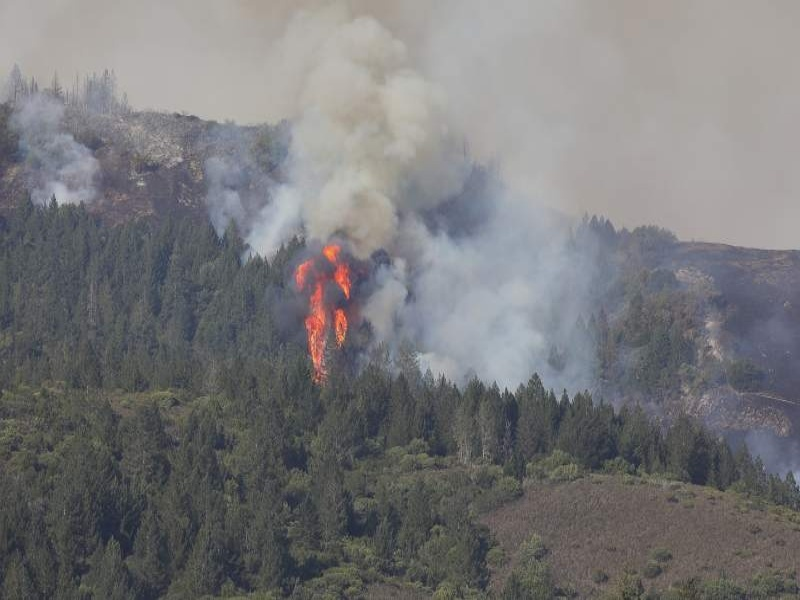smoke: (267, 1, 600, 384)
